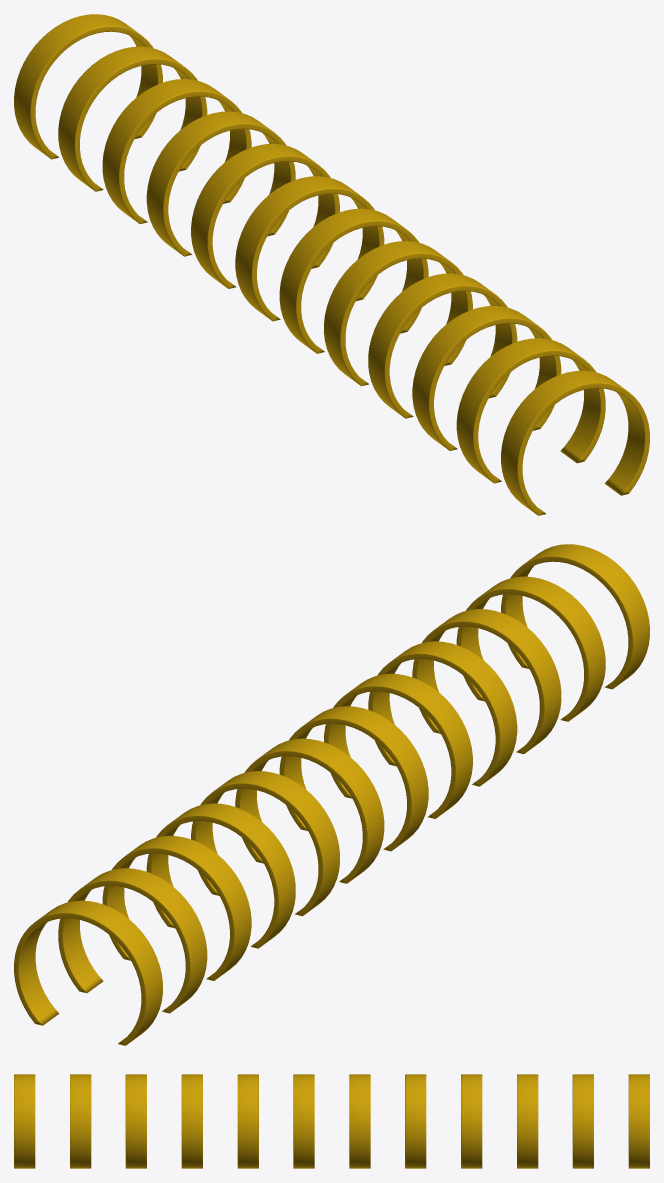
File: Portals.obj
The picture shows the model from 3 angles, top to bottom: view 1: azimuth 30°, elevation 25°; view 2: azimuth 150°, elevation 25°; view 3: azimuth 270°, elevation 25°; orthographic projection. The views are drawn at different scales.
Visible parts, largest first — view 1: Cylinder; view 2: Cylinder; view 3: Cylinder.
Boxes of the visible parts, x1=… form: Cylinder: x1=14, y1=14, x2=649, y2=515; Cylinder: x1=14, y1=544, x2=649, y2=1045; Cylinder: x1=14, y1=1074, x2=649, y2=1168.
Size of the model in its own units: 2 by 1.73 by 13.13.
